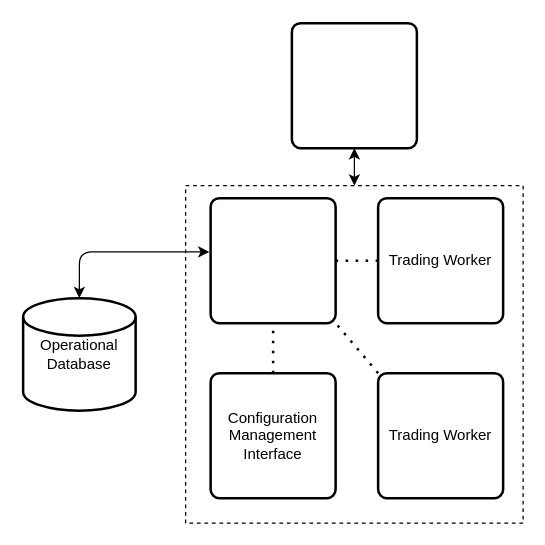
The diagram is 545 pixels wide and 545 high, and some of its shapes have lost their labels. The shapes that lost their labels are listed below. From the top down, each one's centre as x and y in pixels, then its label:
At pixel 354 85: "Central Server Process".
At pixel 272 260: "State Manager".
